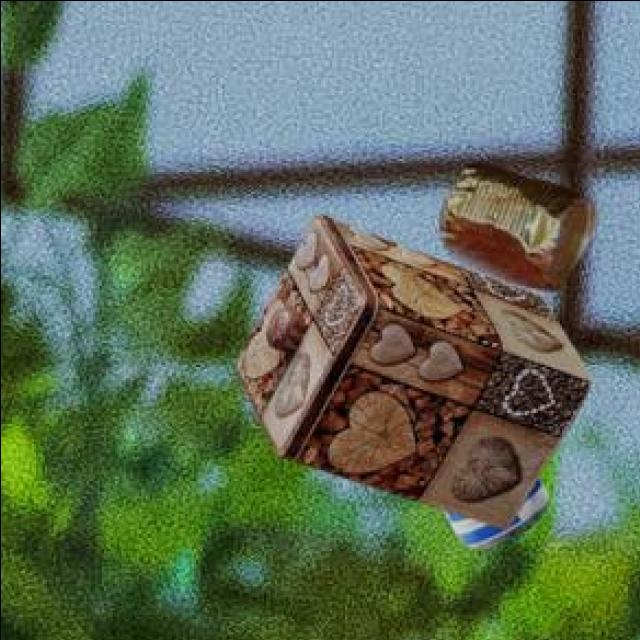logam: (233, 218, 586, 532), (437, 168, 593, 293), (439, 481, 545, 551)
